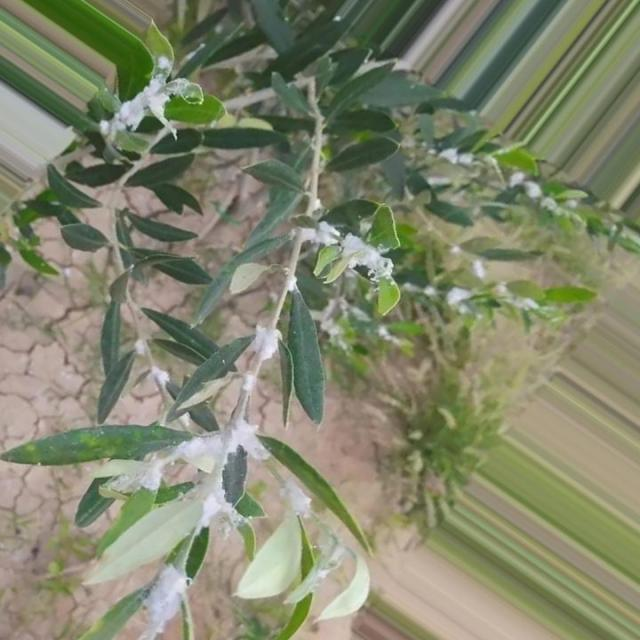Psyllid: (108, 417, 269, 535), (100, 55, 203, 155), (298, 219, 394, 283), (138, 564, 191, 639), (246, 325, 282, 365), (281, 480, 316, 518), (241, 368, 259, 398), (284, 275, 301, 291)
